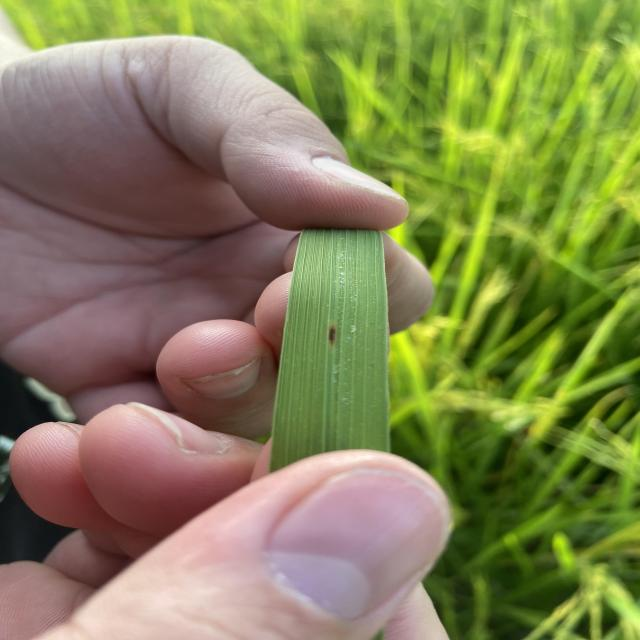Dom nau: (328, 325, 336, 345)
